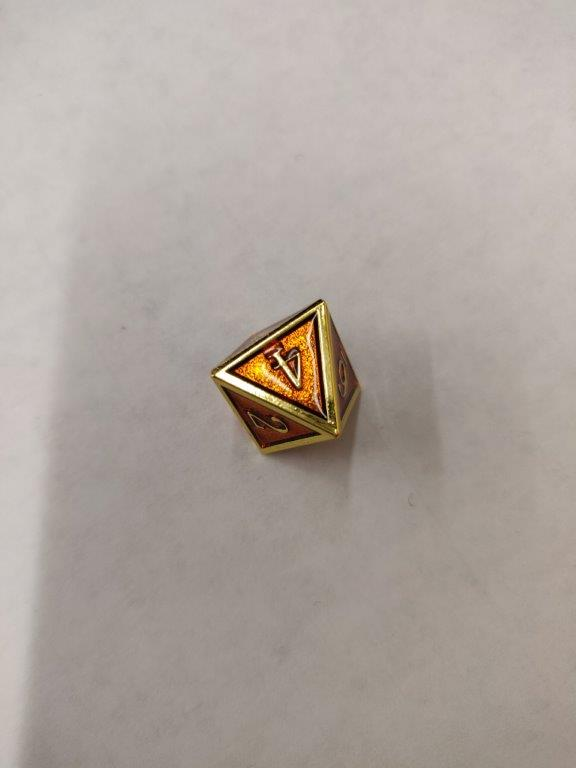d8-4: (212, 299, 363, 452)
